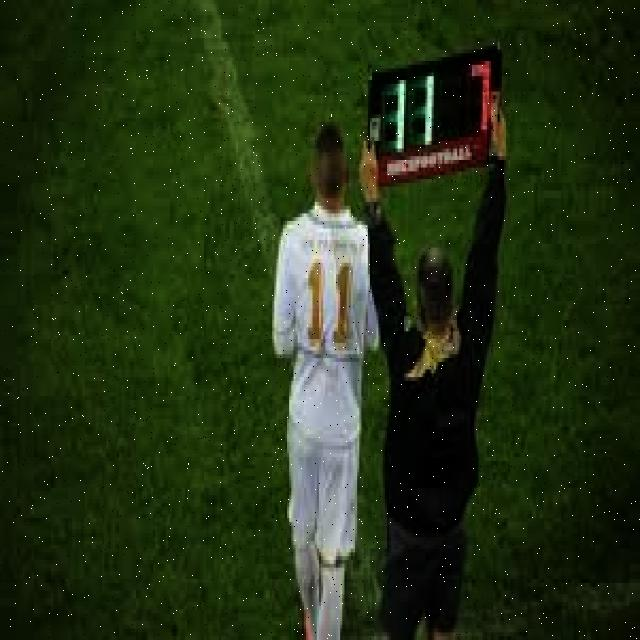substitution: (364, 41, 510, 190)
